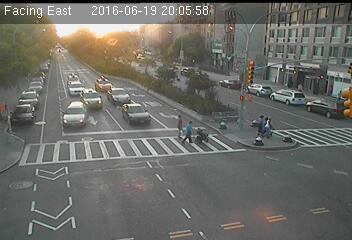neg: (149, 54, 178, 93), (82, 90, 111, 129), (32, 70, 59, 106), (68, 167, 94, 201), (226, 181, 251, 215), (299, 176, 323, 208), (39, 132, 61, 162), (107, 34, 127, 61), (126, 127, 146, 153), (305, 138, 324, 164), (297, 63, 316, 88), (266, 63, 284, 88), (135, 174, 152, 198), (229, 63, 243, 82)
pos: (180, 120, 198, 143), (264, 113, 281, 135), (171, 110, 187, 131), (253, 112, 268, 132)
